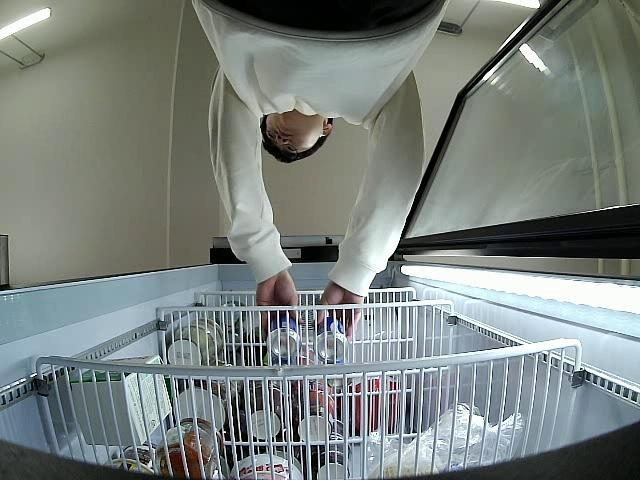13_pocariSweat: (313, 315, 350, 366), (267, 314, 304, 358)
